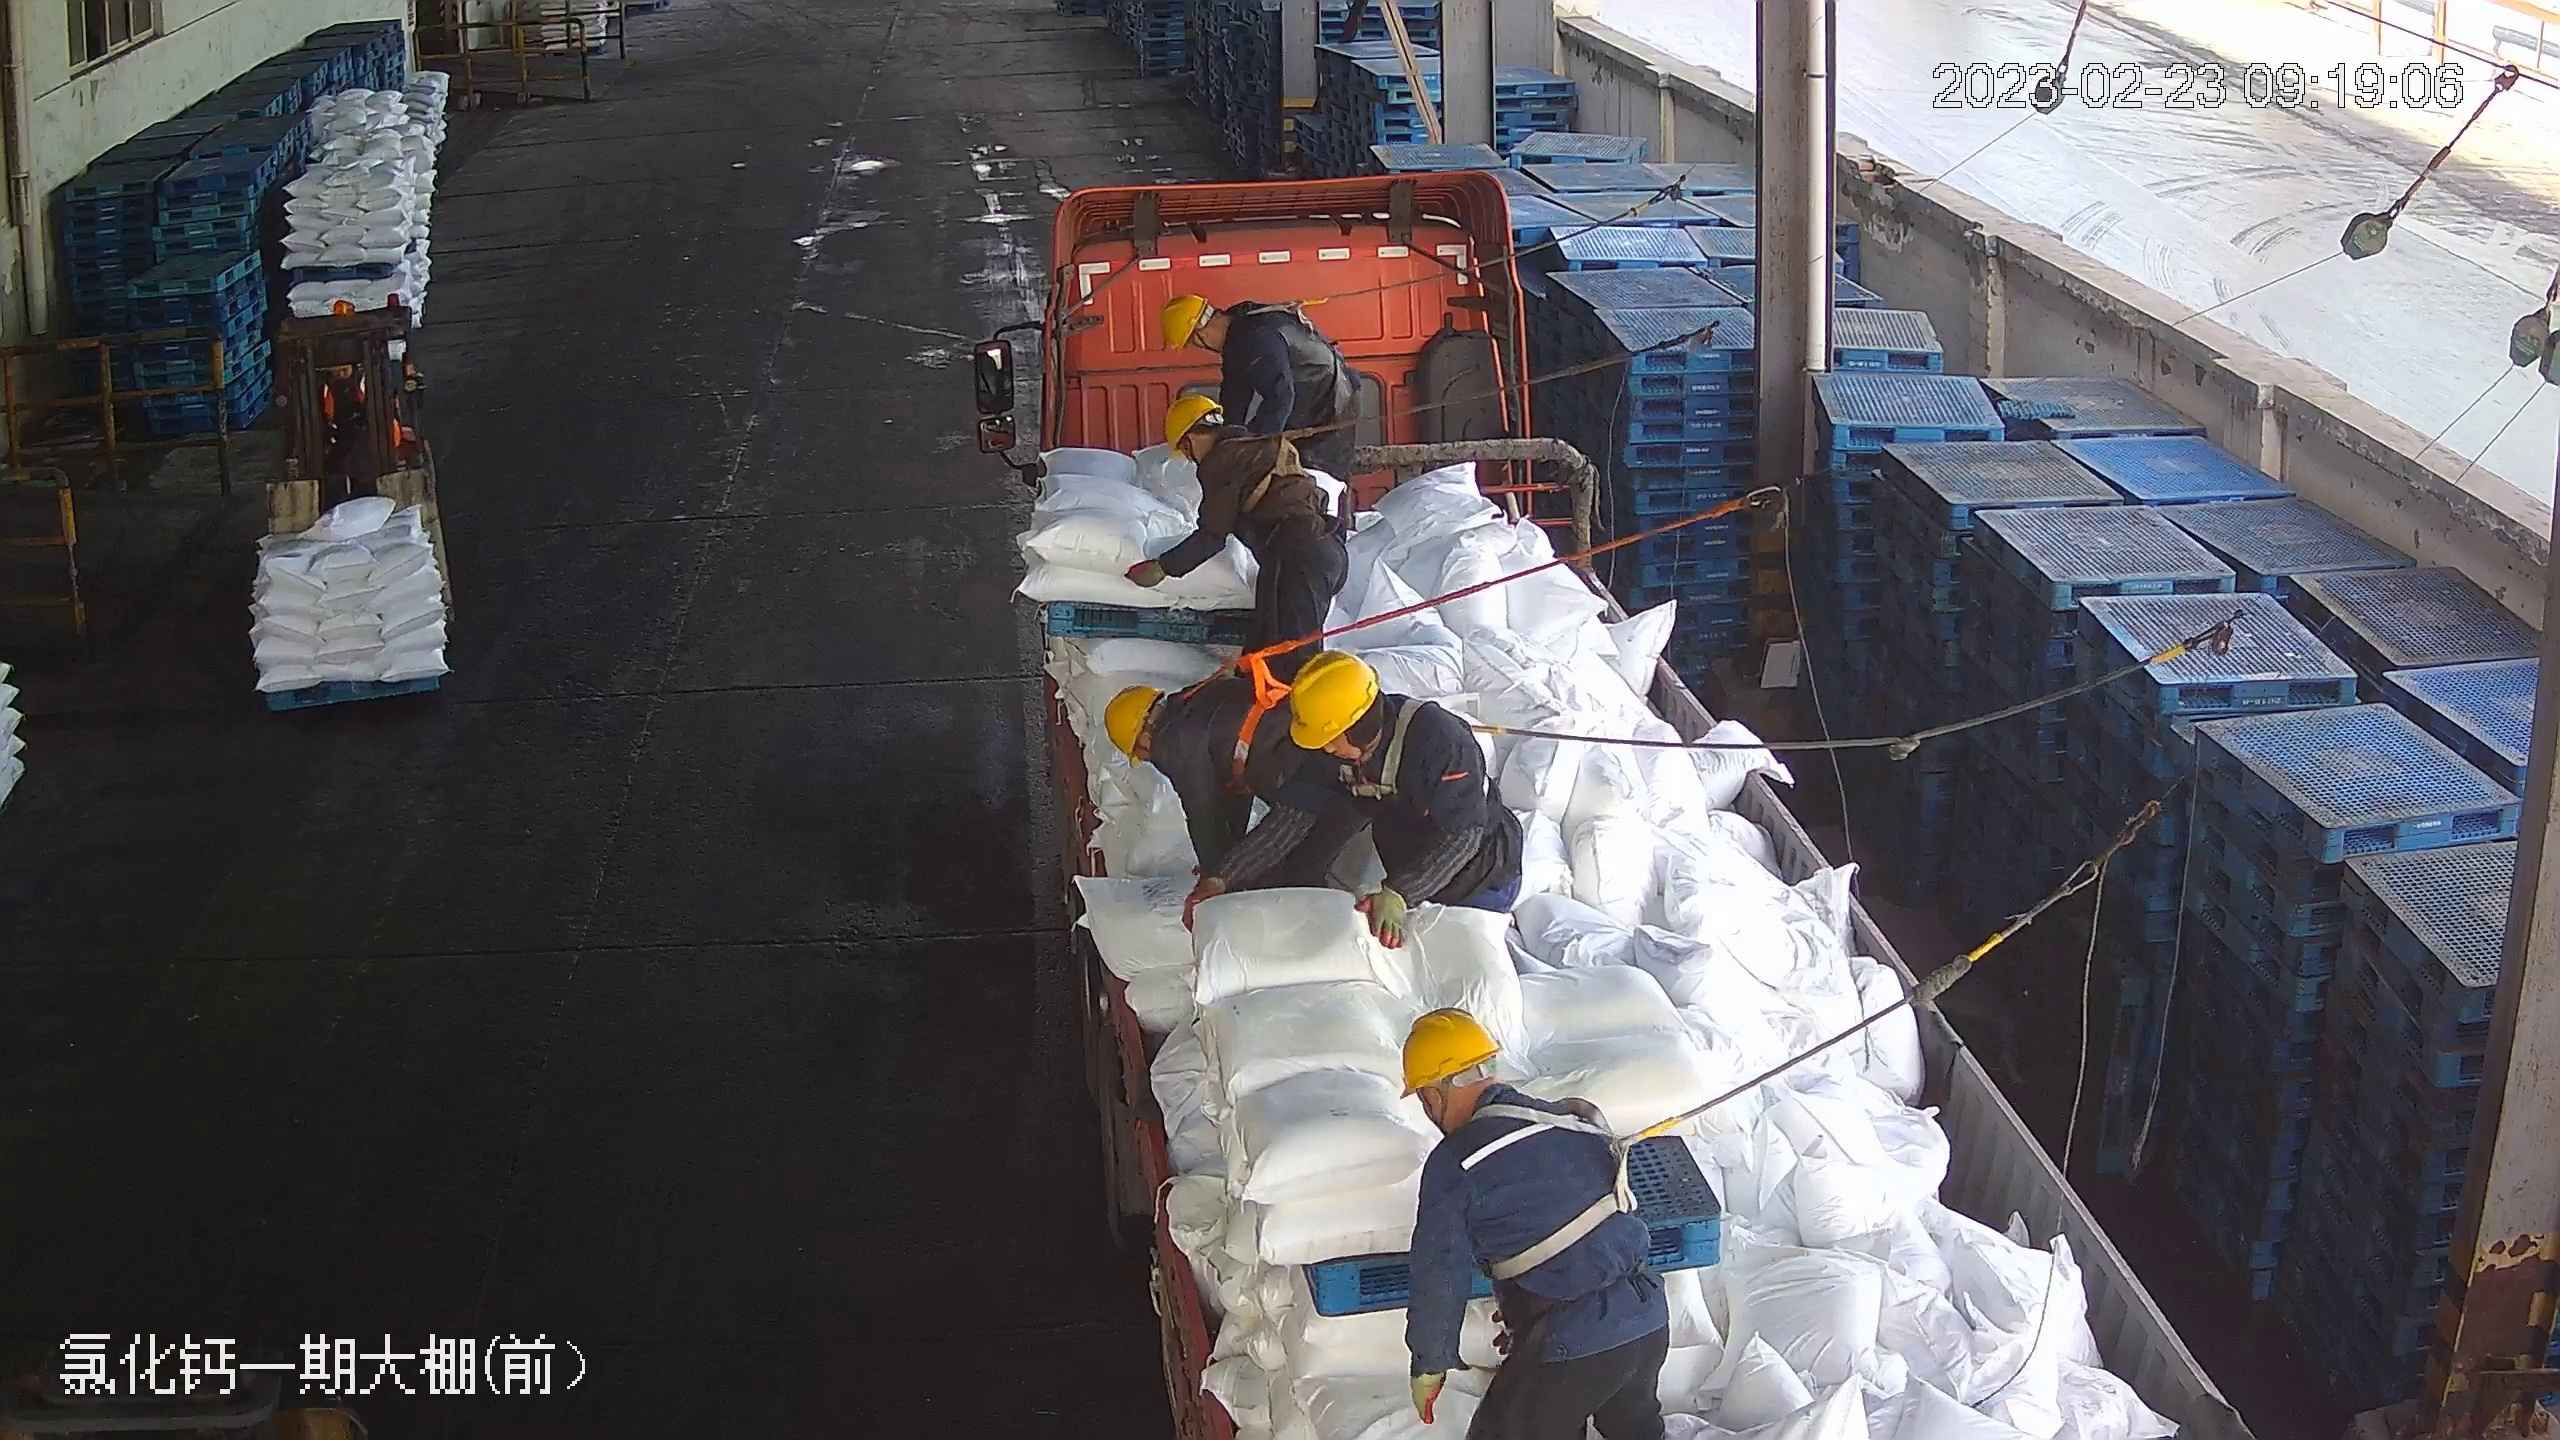belt: (1453, 1089, 1687, 1279), (1344, 697, 1509, 798), (1186, 647, 1315, 767), (1221, 432, 1333, 520), (1247, 293, 1334, 335)
head: (1398, 1008, 1622, 1223), (1287, 651, 1472, 805), (1102, 679, 1239, 786), (1162, 394, 1286, 502), (1159, 290, 1284, 379)
helmet: (1399, 1007, 1502, 1095), (1288, 649, 1378, 746), (1101, 682, 1157, 766), (1163, 393, 1224, 455), (1160, 292, 1210, 354)
people: (1395, 1006, 1670, 1439), (1218, 654, 1521, 933), (1127, 395, 1349, 650), (1086, 676, 1348, 868), (1157, 283, 1362, 468)
truck: (971, 159, 2259, 1428)
